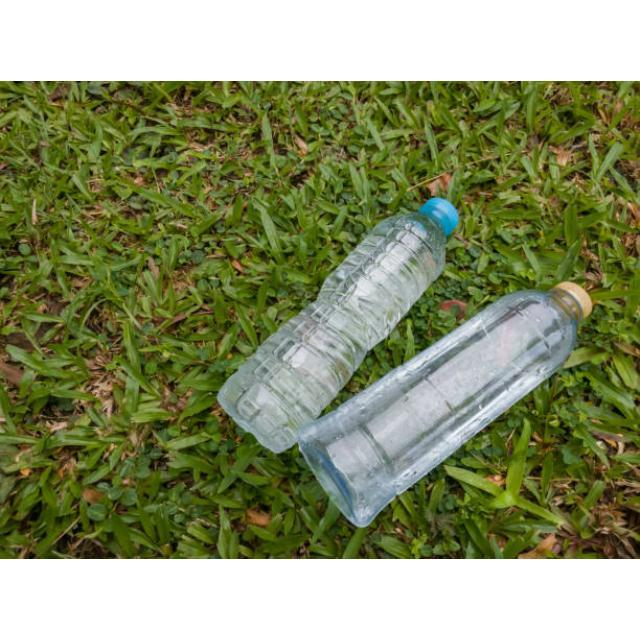PET Bottle: (143, 127, 617, 536)
